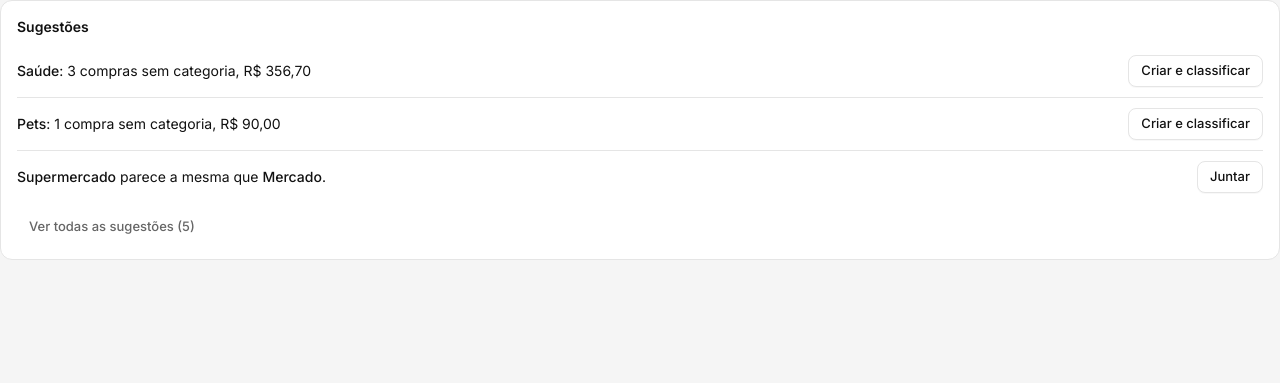
Test: CategorySuggestions › shows three suggestions and reveals the rest on request
The width and height of the screenshot is (1280, 383).
Expected: the number of list items is 3, [17,45,1263,98]; [17,98,1263,151]; [17,151,1263,203]
Expected: the text "Viagem" is not shown
Click the button "Ver todas as sugestões (5)" at (112, 227), box [17,211,207,243]
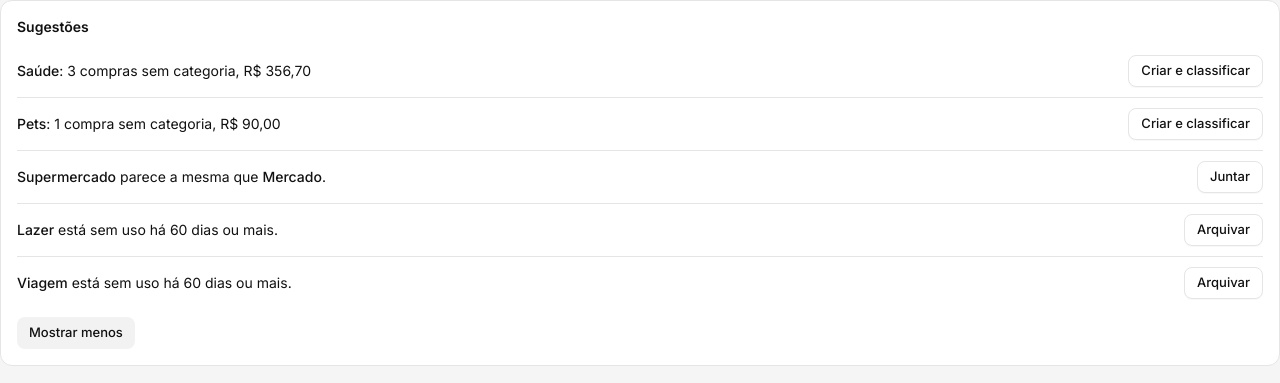
Expected: the number of list items is 5, [17,45,1263,98]; [17,98,1263,151]; [17,151,1263,204]; [17,204,1263,257]; [17,257,1263,309]
Expected: the text "Viagem" is shown, [17,274,68,291]
Expected: the button "Mostrar menos" is expanded, [17,317,135,349]
